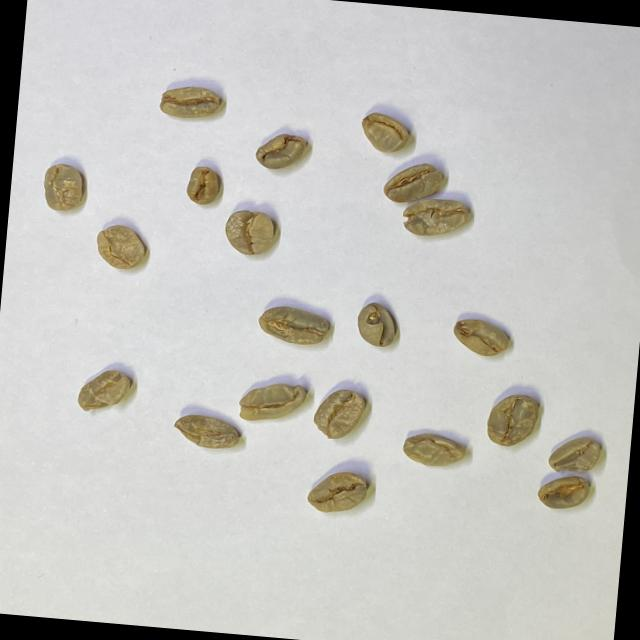bad: (482, 388, 544, 451), (302, 464, 373, 518), (256, 301, 333, 349), (235, 377, 309, 426), (310, 384, 370, 444), (399, 194, 472, 242), (379, 158, 448, 208), (398, 428, 469, 473), (73, 364, 133, 417), (220, 206, 280, 259), (448, 314, 514, 361), (90, 221, 148, 274), (169, 411, 242, 453), (356, 106, 414, 158), (156, 81, 224, 123), (37, 160, 89, 214), (546, 430, 604, 476), (252, 129, 311, 174), (534, 470, 594, 514), (353, 298, 402, 350), (183, 162, 223, 208)
